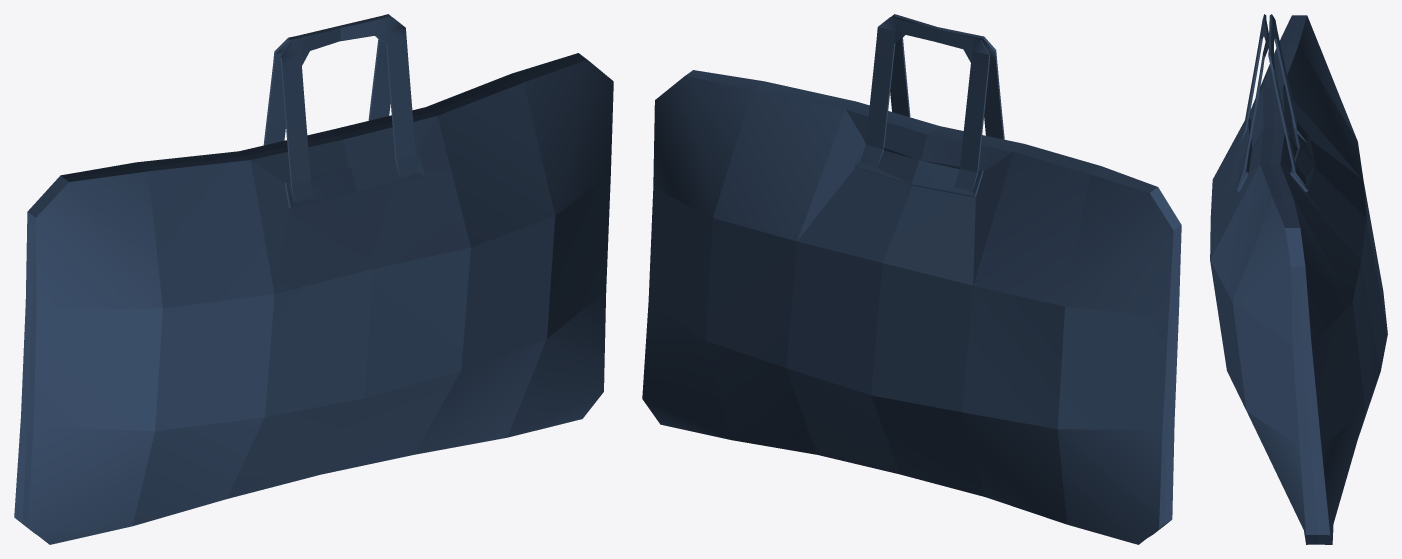
The model's file is Handbag.fbx.
3 renders of one model, left to right at view 1: azimuth 30°, elevation 25°; view 2: azimuth 150°, elevation 25°; view 3: azimuth 270°, elevation 25°, orthographic. The views are drawn at different scales.
Parts seen in each view (by area): view 1: Handbag; view 2: Handbag; view 3: Handbag.
Part boxes in pixels (x1,y1,x2,y2): Handbag: [14, 14, 613, 544]; Handbag: [642, 14, 1181, 544]; Handbag: [1210, 14, 1387, 544].
Size of the model in its own units: 0.1938 by 0.4823 by 0.6118.
